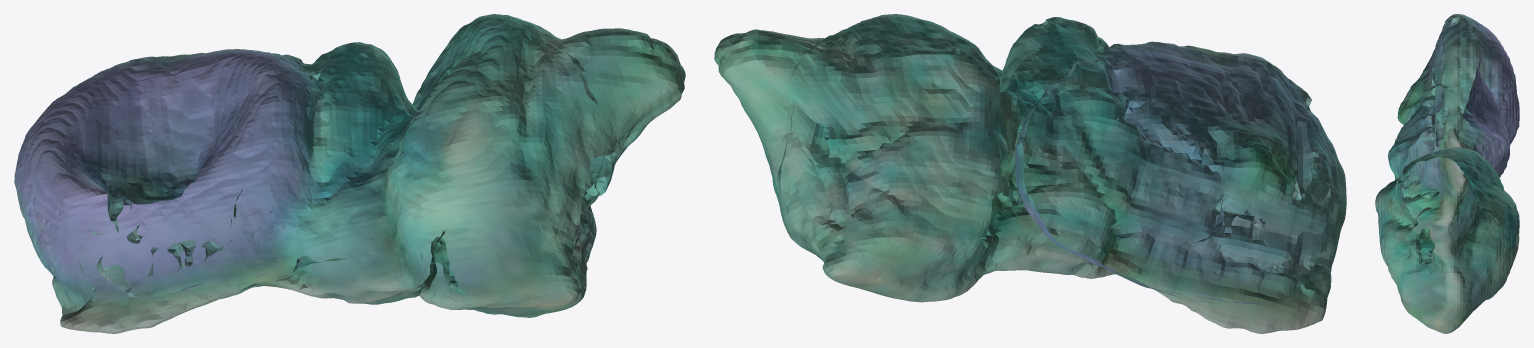
3 views of the same model, side by side, from view 1: azimuth 30°, elevation 25°; view 2: azimuth 150°, elevation 25°; view 3: azimuth 270°, elevation 25° (orthographic). The views are drawn at different scales.
Visible parts, largest first — view 1: geometry_0; view 2: geometry_0; view 3: geometry_0.
Part boxes in pixels (x1,y1,x2,y2): geometry_0: [14, 14, 685, 333]; geometry_0: [714, 14, 1346, 333]; geometry_0: [1375, 14, 1519, 333].
Size of the model in its own units: 1.6 by 0.7928 by 0.5357.
